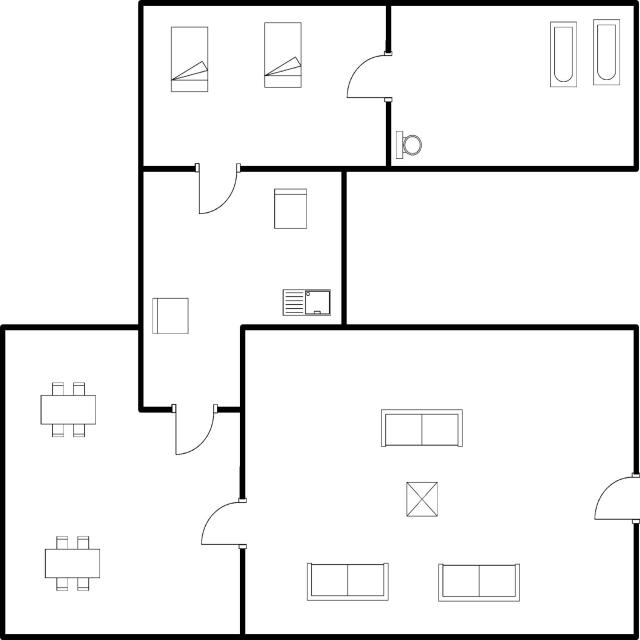bed: (167, 22, 213, 98), (260, 18, 304, 92)
coffee_table: (403, 477, 443, 519)
dining_table: (34, 378, 102, 442), (39, 532, 104, 596)
large_sink: (393, 125, 423, 167)
large_sofa: (376, 402, 466, 452), (302, 558, 392, 607), (433, 560, 525, 606)
sink: (278, 284, 334, 319)
small_sofa: (148, 292, 192, 338), (271, 185, 311, 235)
tub: (588, 15, 623, 91), (547, 15, 580, 91)
